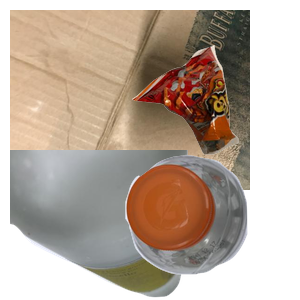cardboard: (10, 10, 250, 190)
glass: (10, 150, 190, 300)
plastic: (123, 152, 300, 300)
trash: (130, 43, 300, 190)
